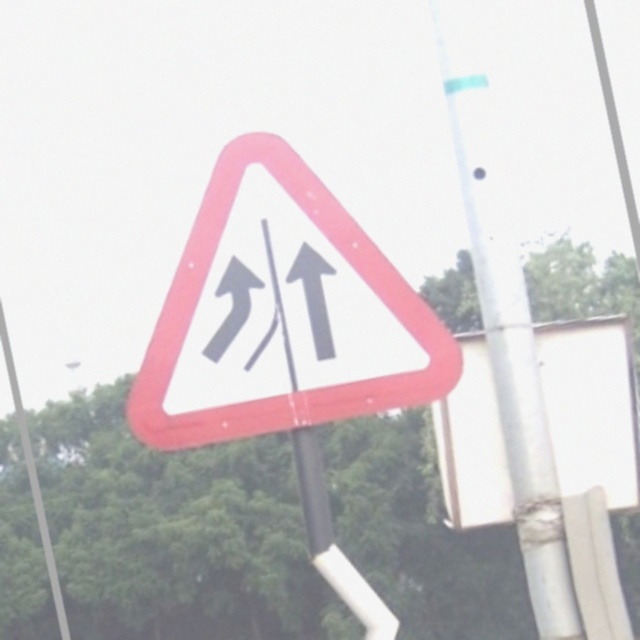Merge_Traffic_Ahead: (71, 91, 483, 480)
